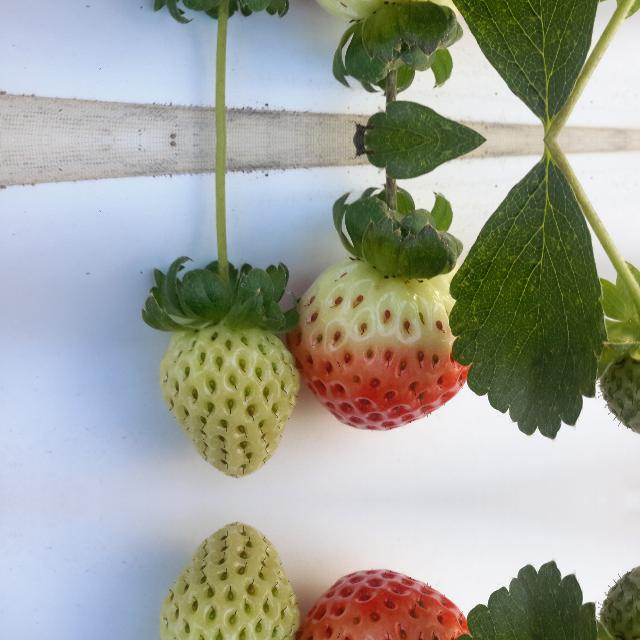Health_25: (160, 317, 298, 477), (159, 523, 298, 640), (590, 335, 640, 435), (590, 565, 639, 640)
Health_75: (278, 249, 494, 435), (278, 565, 493, 640)
